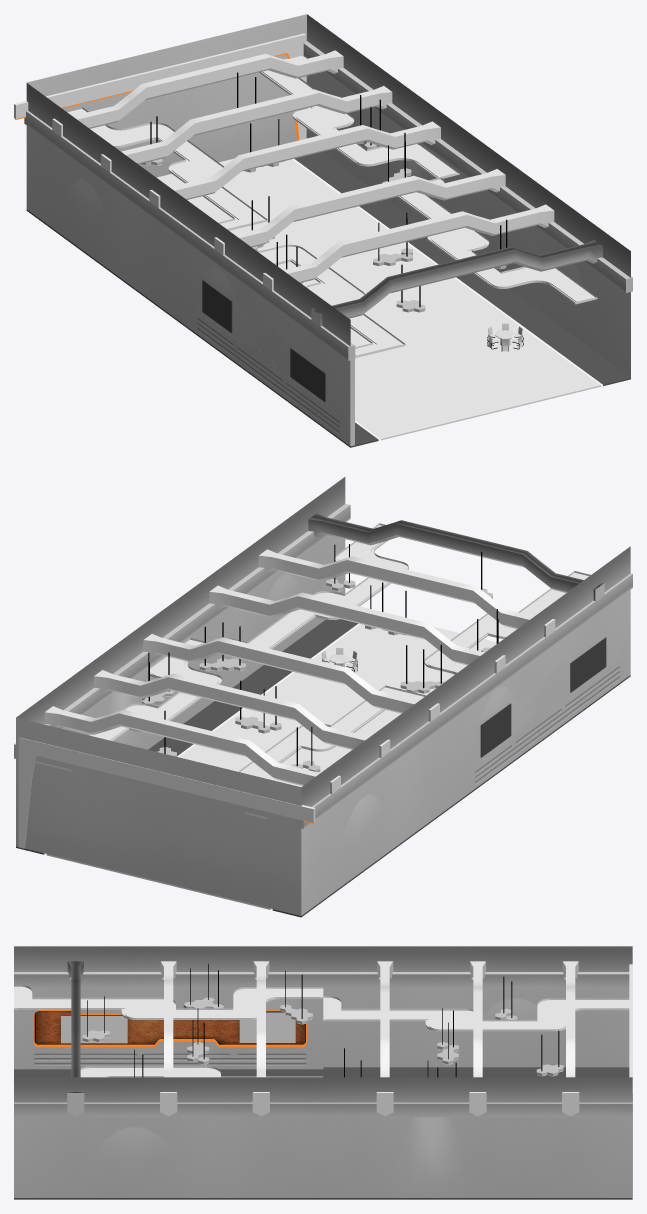
File: room-upper.glb
3 views of the same model, one above another, from view 1: azimuth 30°, elevation 25°; view 2: azimuth 150°, elevation 25°; view 3: azimuth 270°, elevation 25° (orthographic). The views are drawn at different scales.
Parts seen in each view (by area): view 1: pFloor, pWallL, pWallR, pWallEnd, pFloor.001, pWallBumpFrame, pBeamL, pMainBeam1, pMainBeam2.001, pMainBeam2, pMainBeam1.001, pMainBeam (+13 smaller); view 2: pWallEnd, pWallL, pWallR, pFloor, pWallBumpFrame, pPartitionArc, pBeamL, pMainBeam2.001, pMainBeam.001, pMainBeam, pMainBeam2, pMainBeam1 (+13 smaller); view 3: pWallR, pWallL, pWallBumpFrame, pBeamL, pBeamR, pWallLRough, CeilingShape_body.003, CeilingShape_body, pFloor.001, pFloor, pCeilingShape_frame.003, pMainBeam1 (+15 smaller).
Part boxes in pixels (<box>): pFloor: <box>188,273,630,447</box>; pWallL: <box>26,83,350,413</box>; pWallR: <box>307,14,630,377</box>; pWallEnd: <box>27,14,306,177</box>; pFloor.001: <box>26,152,454,328</box>; pWallBumpFrame: <box>188,244,354,446</box>; pBeamL: <box>24,110,355,360</box>; pMainBeam1: <box>311,240,602,326</box>; pMainBeam2.001: <box>149,121,440,207</box>; pMainBeam2: <box>214,169,505,255</box>; pMainBeam1.001: <box>52,50,343,136</box>; pMainBeam: <box>263,204,554,290</box>; pWallEnd: <box>16,717,301,915</box>; pWallL: <box>301,546,630,915</box>; pWallR: <box>16,477,345,749</box>; pFloor: <box>183,619,630,796</box>; pWallBumpFrame: <box>466,590,630,795</box>; pPartitionArc: <box>18,737,315,848</box>; pBeamL: <box>296,573,632,828</box>; pMainBeam2.001: <box>143,634,439,721</box>; pMainBeam.001: <box>94,670,390,757</box>; pMainBeam: <box>258,549,555,637</box>; pMainBeam2: <box>209,585,505,673</box>; pMainBeam1: <box>308,513,604,601</box>; pWallR: <box>14,1077,632,1197</box>; pWallL: <box>14,946,632,1067</box>; pWallBumpFrame: <box>14,987,323,1069</box>; pBeamL: <box>14,972,629,987</box>; pBeamR: <box>14,1102,632,1116</box>; pWallLRough: <box>34,1011,305,1044</box>; CeilingShape_body.003: <box>326,998,629,1029</box>; CeilingShape_body: <box>17,986,320,1018</box>; pFloor.001: <box>323,1067,632,1199</box>; pFloor: <box>14,1069,323,1199</box>; pCeilingShape_frame.003: <box>323,996,629,1031</box>; pMainBeam1: <box>67,961,84,1116</box>.
Bounding box in the file's own units: 21.03 × 8.73 × 40.03.
Materials: 18 (7 with a texture image).
